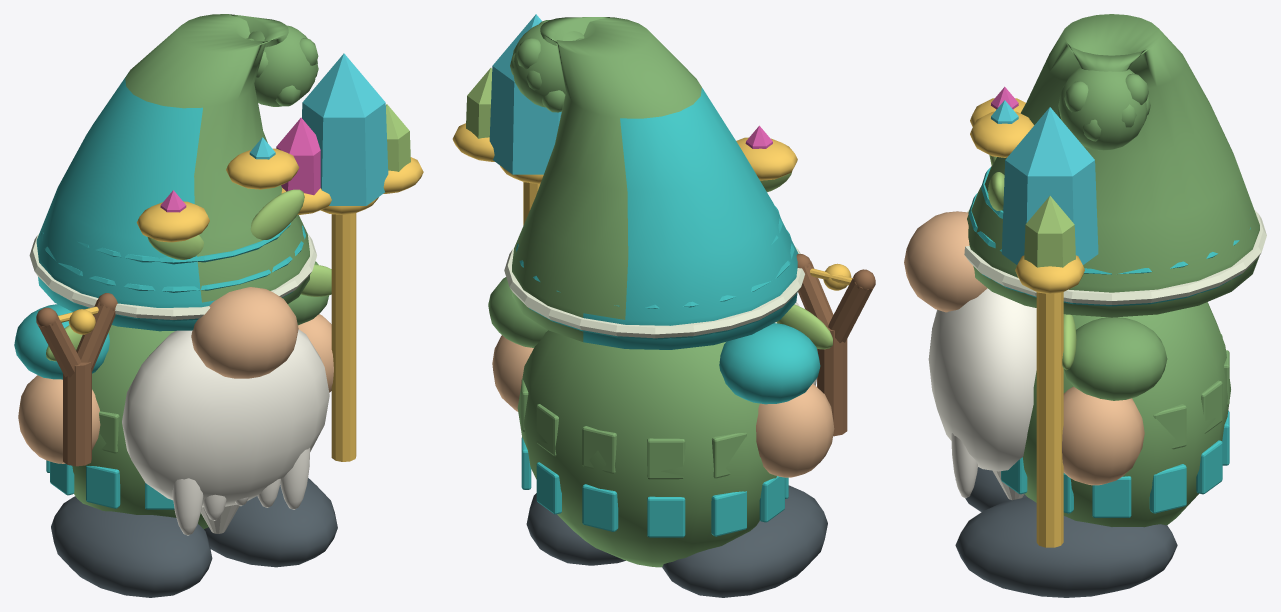
Rendered from gnome-fusion-crystal-sprout.glb.
3 views of the same model, side by side, from view 1: azimuth 30°, elevation 25°; view 2: azimuth 150°, elevation 25°; view 3: azimuth 270°, elevation 25° (orthographic). The views are drawn at different scales.
Visible parts, largest first — view 1: gnome-fusion-crystal-sprout; view 2: gnome-fusion-crystal-sprout; view 3: gnome-fusion-crystal-sprout.
Boxes of the visible parts, <box> form: gnome-fusion-crystal-sprout: <box>14,14,423,597</box>; gnome-fusion-crystal-sprout: <box>452,14,875,597</box>; gnome-fusion-crystal-sprout: <box>904,14,1266,597</box>.
Bounding box in the file's own units: 1.18 × 1.46 × 0.882.
